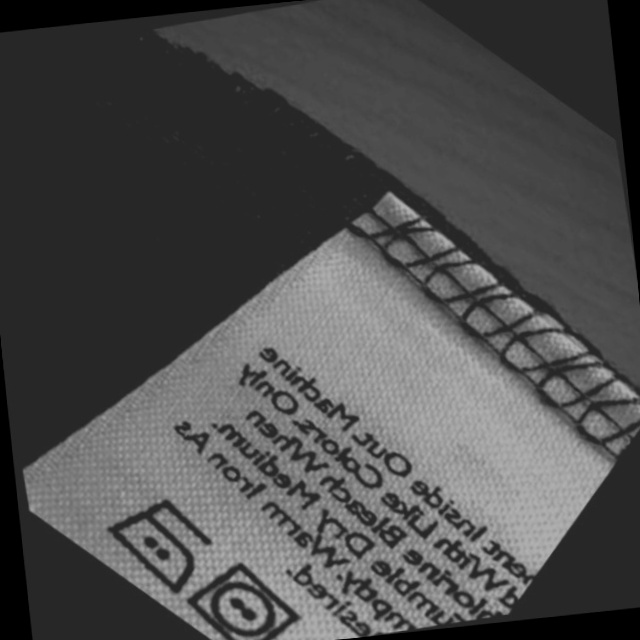iron_medium: (97, 492, 218, 601)
tumble_dry_medium: (179, 556, 302, 640)
